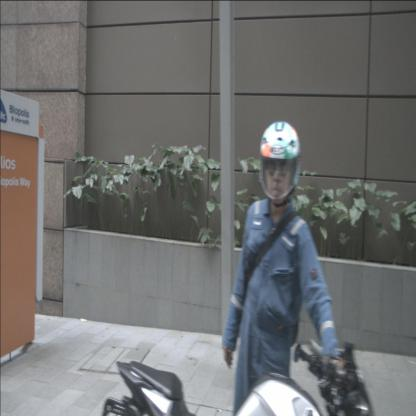human-pedestrian-adult: (223, 120, 344, 416)
vehicle-motorcycle: (100, 337, 375, 415)
